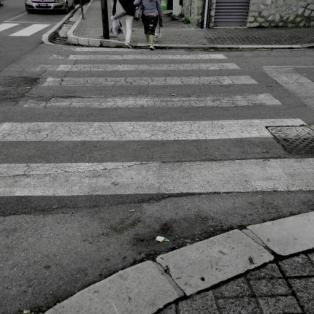Paso de Cebra: (0, 114, 314, 203), (40, 61, 264, 92)
